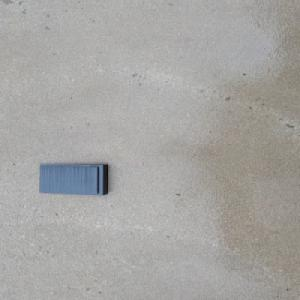PlasticPart: (38, 163, 110, 196)
